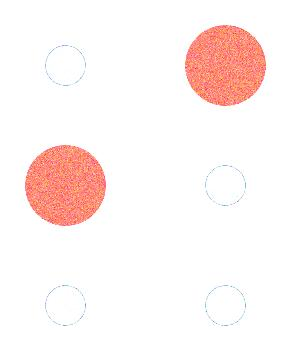I: (20, 19, 271, 332)
